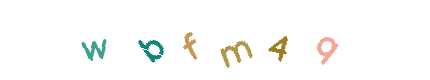4: (239, 0, 319, 80)
B: (85, 0, 165, 80)
F: (175, 0, 255, 80)
M: (182, 0, 262, 80)
Q: (257, 0, 337, 80)
W: (78, 0, 158, 80)
